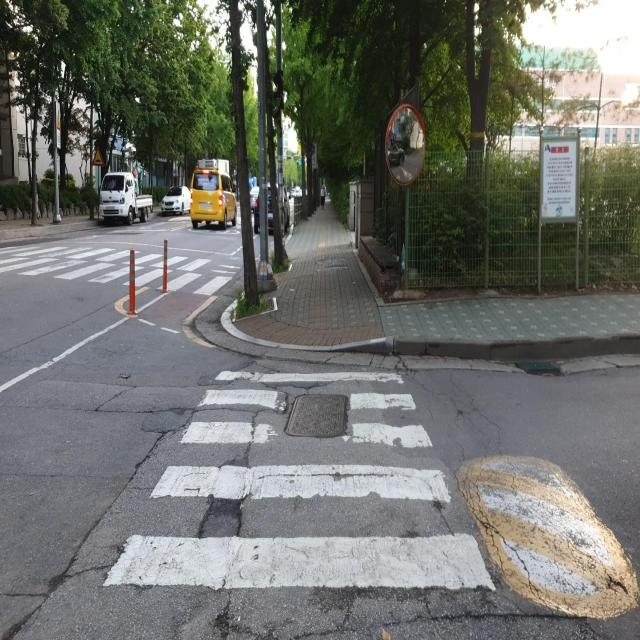횡단보도: (100, 364, 500, 600), (0, 235, 235, 300)
